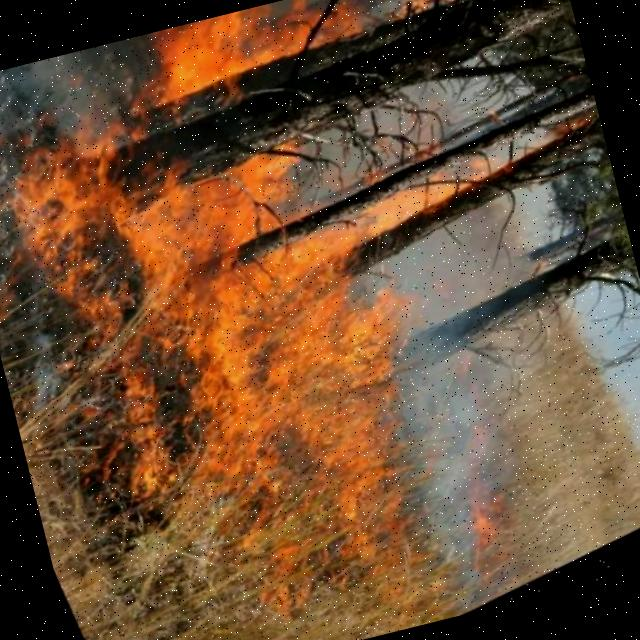fire: (6, 0, 535, 604)
